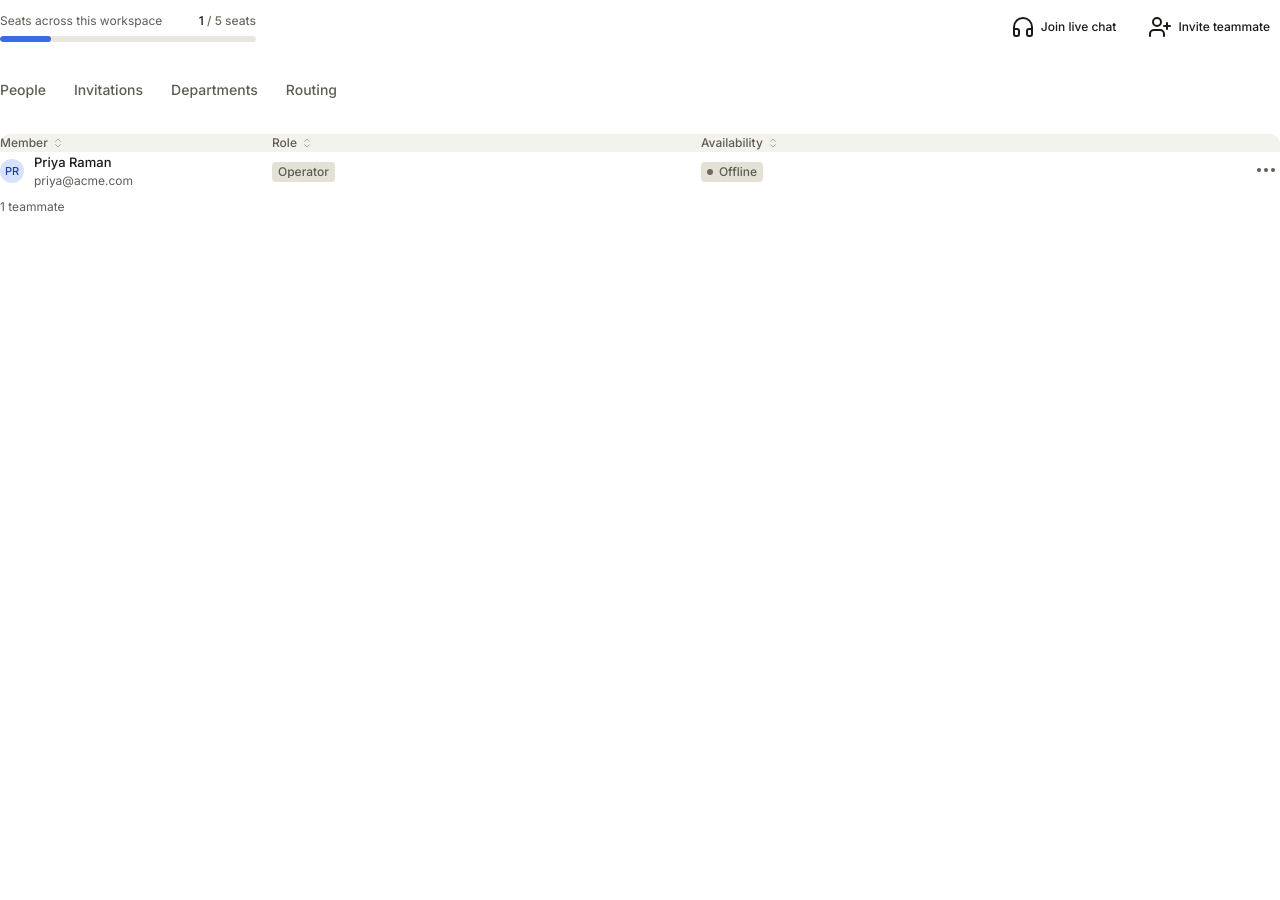
Test case: MembersPage — destructive actions confirm › cancelling the confirmation leaves the teammate alone
This screenshot has width=1280, height=900.
Expected: the text "Priya Raman" is shown, left=34, top=152, right=112, bottom=172
Click the button named "actions for priya raman": (1266, 170) left=1252, top=156, right=1279, bottom=184
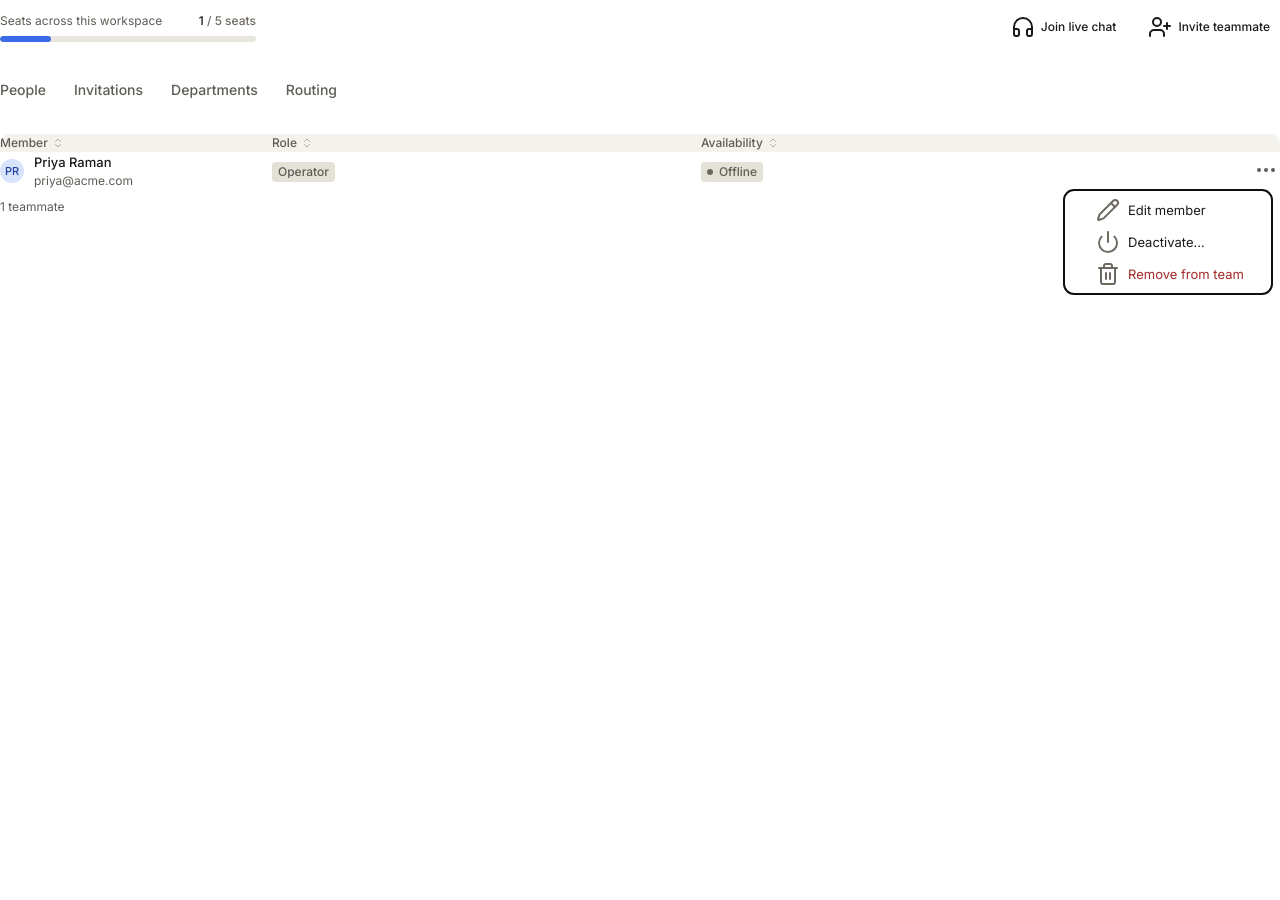
Click the menu item "Remove from team": (1170, 274) left=1096, top=262, right=1244, bottom=286
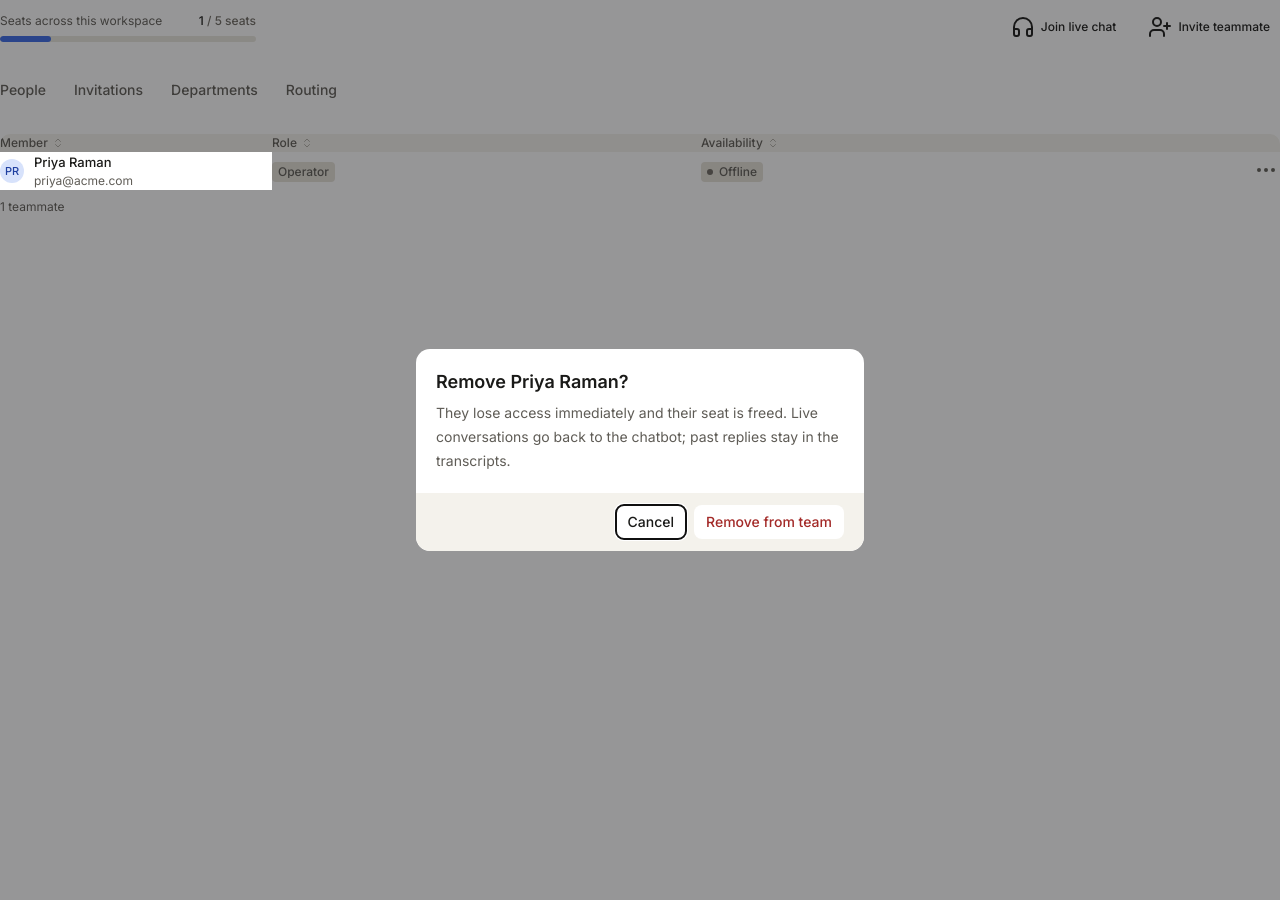
Click the button "Cancel": (651, 522) left=616, top=505, right=686, bottom=539
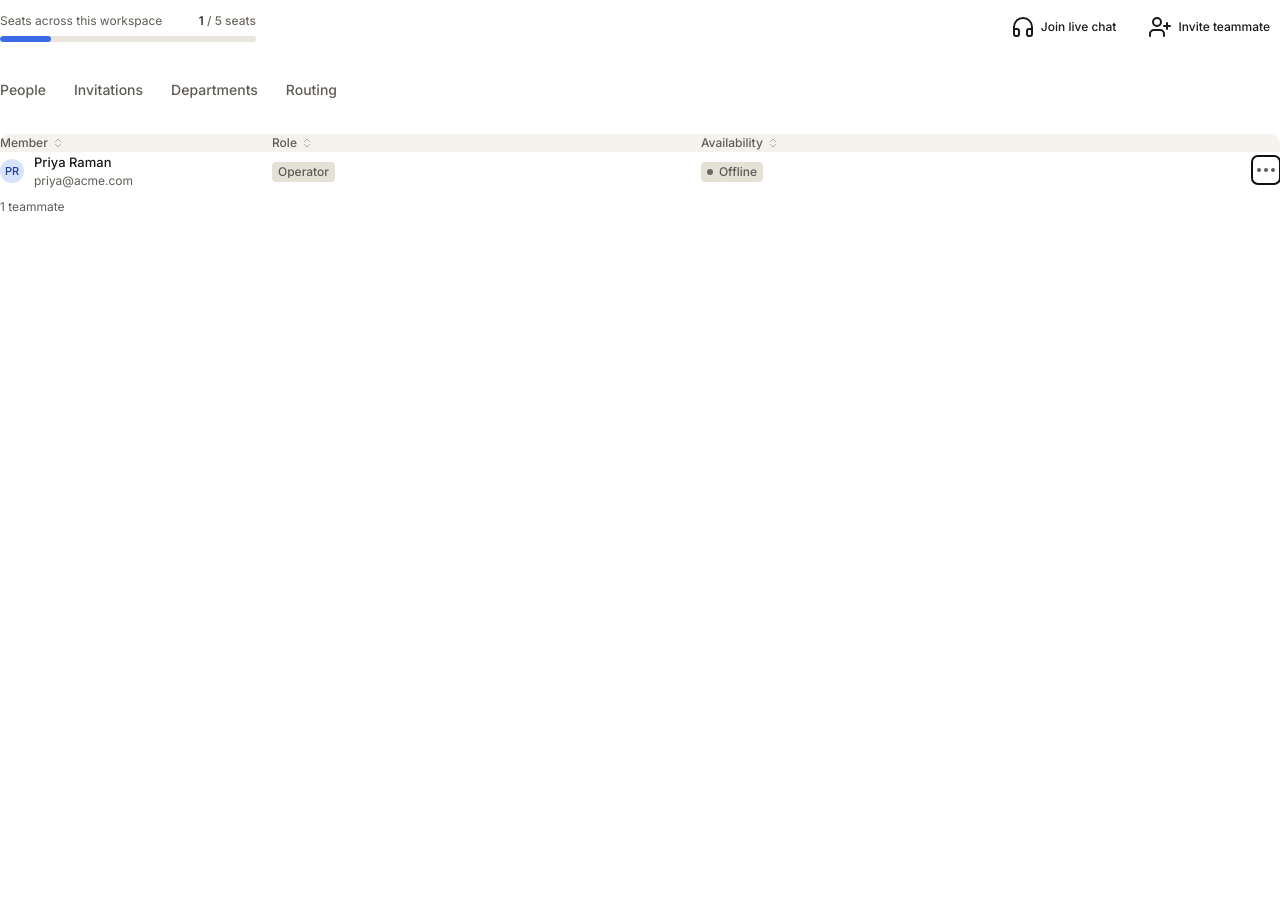
Expected: the dialog is gone
